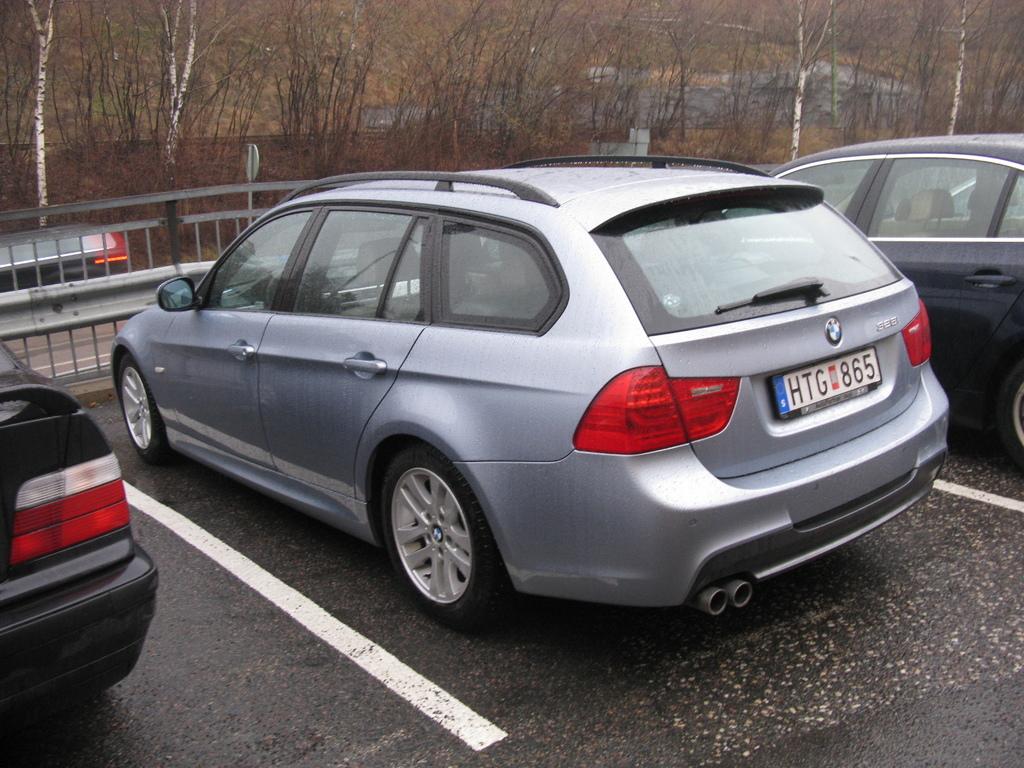license plate: (762, 379, 881, 421)
